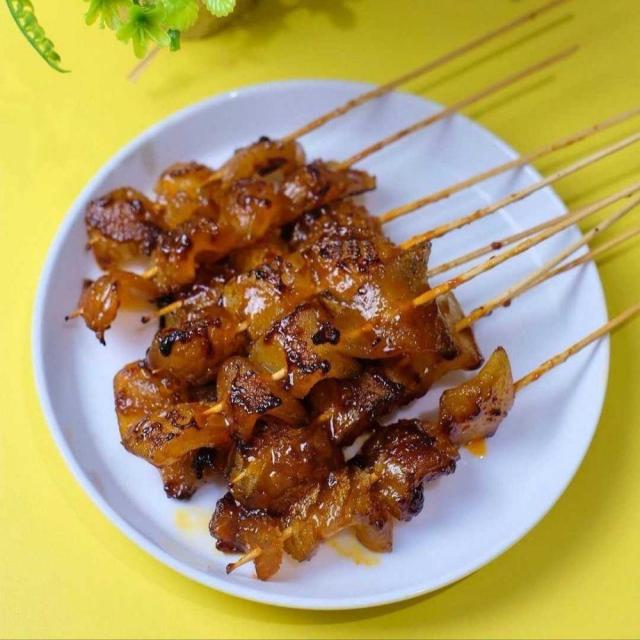Sate: (51, 13, 640, 577)
